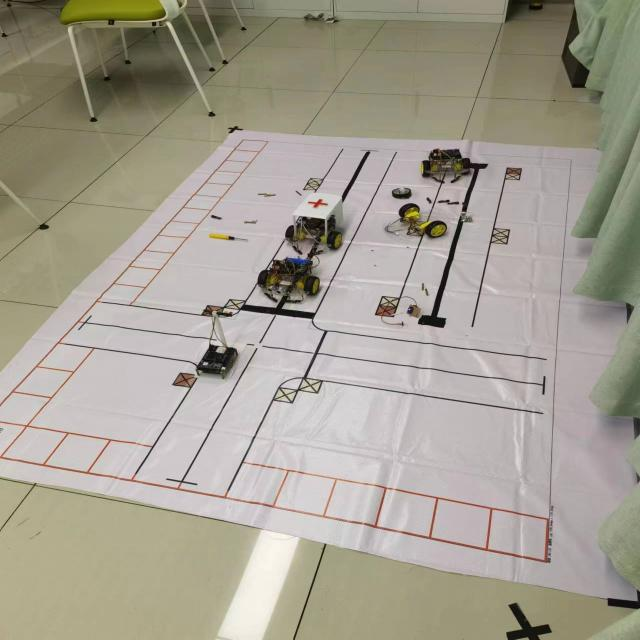RedCross: (302, 194, 334, 214)
